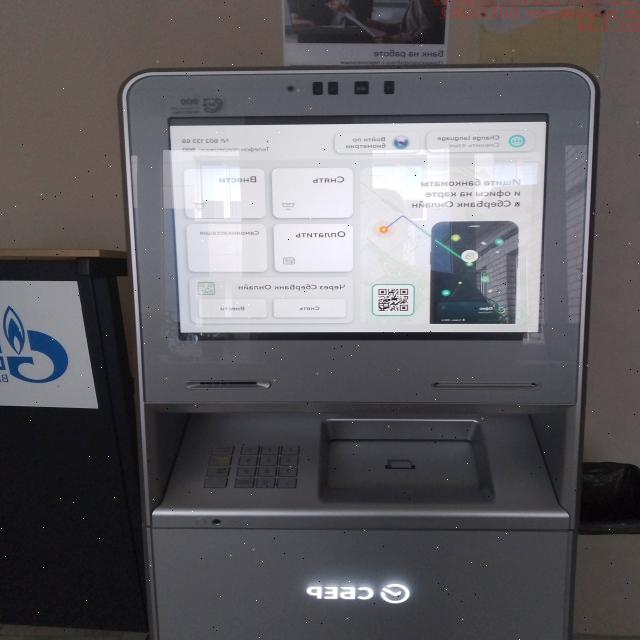bank: (119, 61, 598, 640)
